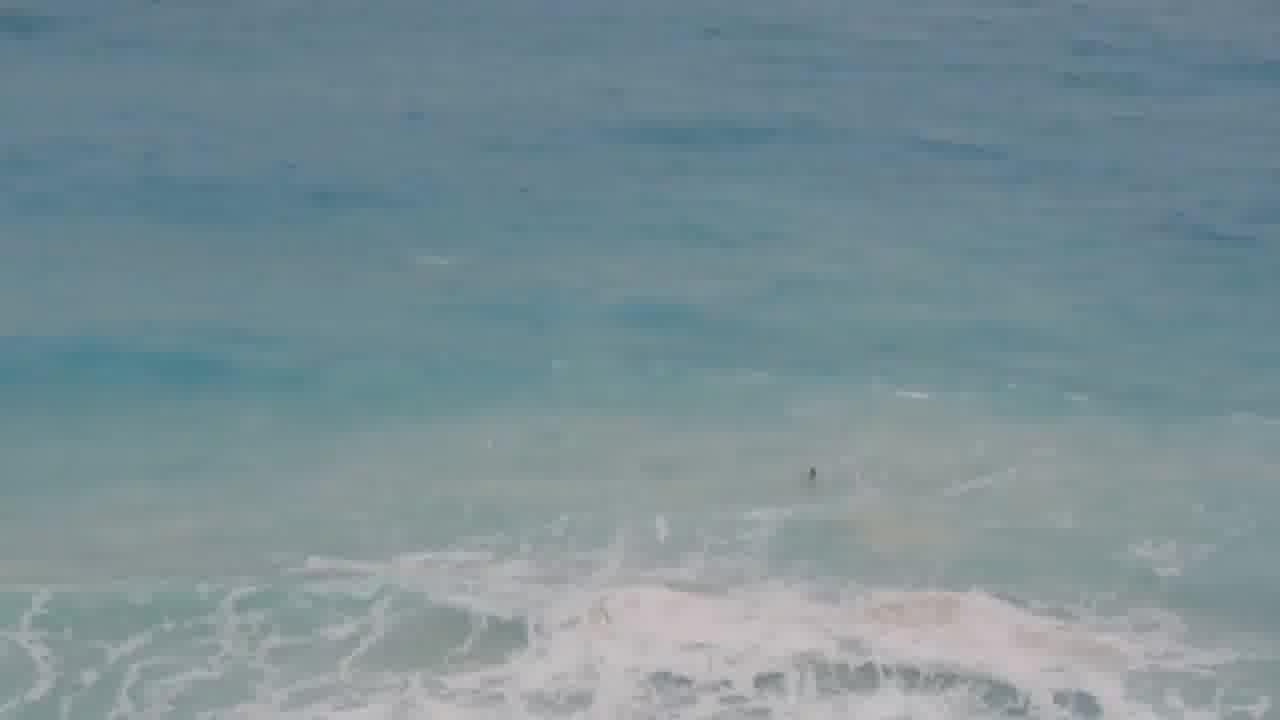human: (793, 444, 834, 493)
